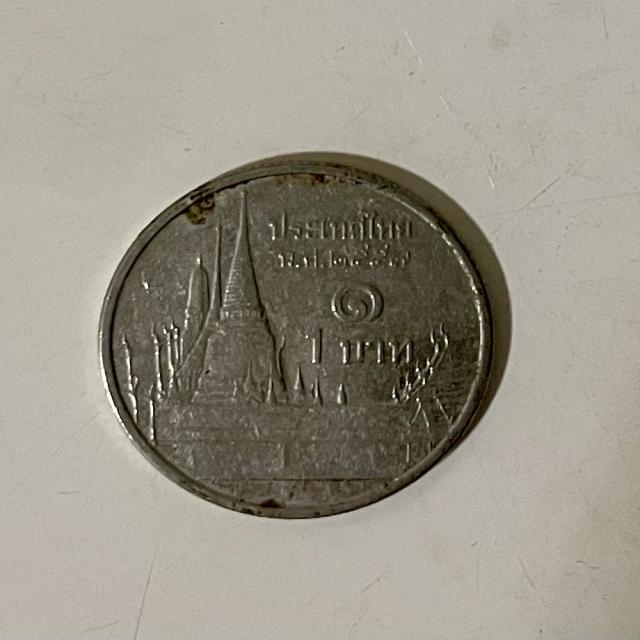1 Bath: (93, 156, 507, 527)
